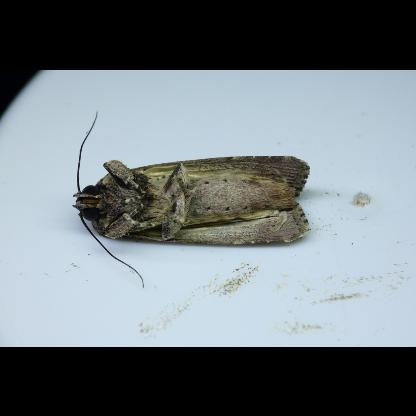Fall Armyworm Moth: (70, 108, 314, 290)
